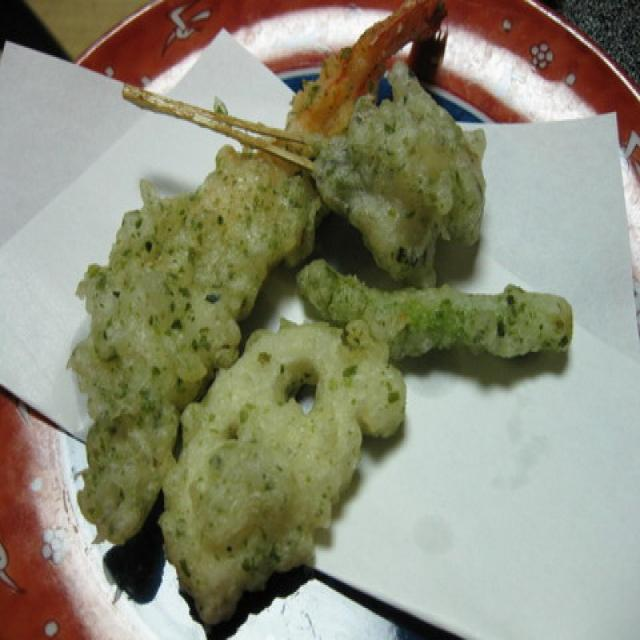蔬菜料理: (76, 29, 572, 602)
